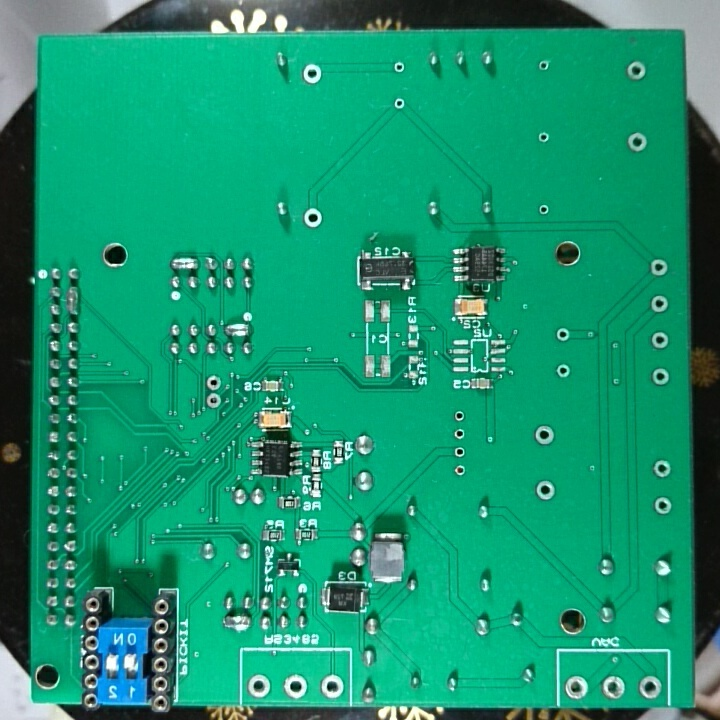F: (562, 673, 591, 703), (280, 672, 309, 700), (246, 672, 274, 700), (600, 674, 626, 701), (319, 672, 345, 699), (637, 674, 663, 700), (300, 60, 325, 87), (300, 205, 325, 232), (624, 57, 649, 83), (534, 477, 558, 504), (625, 130, 651, 154), (650, 494, 677, 517), (532, 423, 556, 448), (648, 292, 671, 316), (648, 329, 672, 351), (647, 256, 670, 278), (651, 457, 673, 479), (650, 366, 671, 389), (552, 360, 573, 381), (204, 373, 225, 393), (553, 325, 572, 345), (204, 392, 223, 412), (536, 55, 554, 76), (451, 423, 468, 443), (451, 462, 469, 480), (452, 444, 471, 461), (391, 93, 407, 112), (451, 407, 468, 424), (536, 129, 553, 145), (392, 59, 408, 76), (537, 200, 552, 218)
P: (64, 282, 84, 318), (221, 612, 253, 632), (168, 255, 200, 272), (222, 321, 254, 338)
